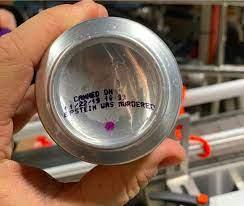metal: (36, 16, 183, 164)
